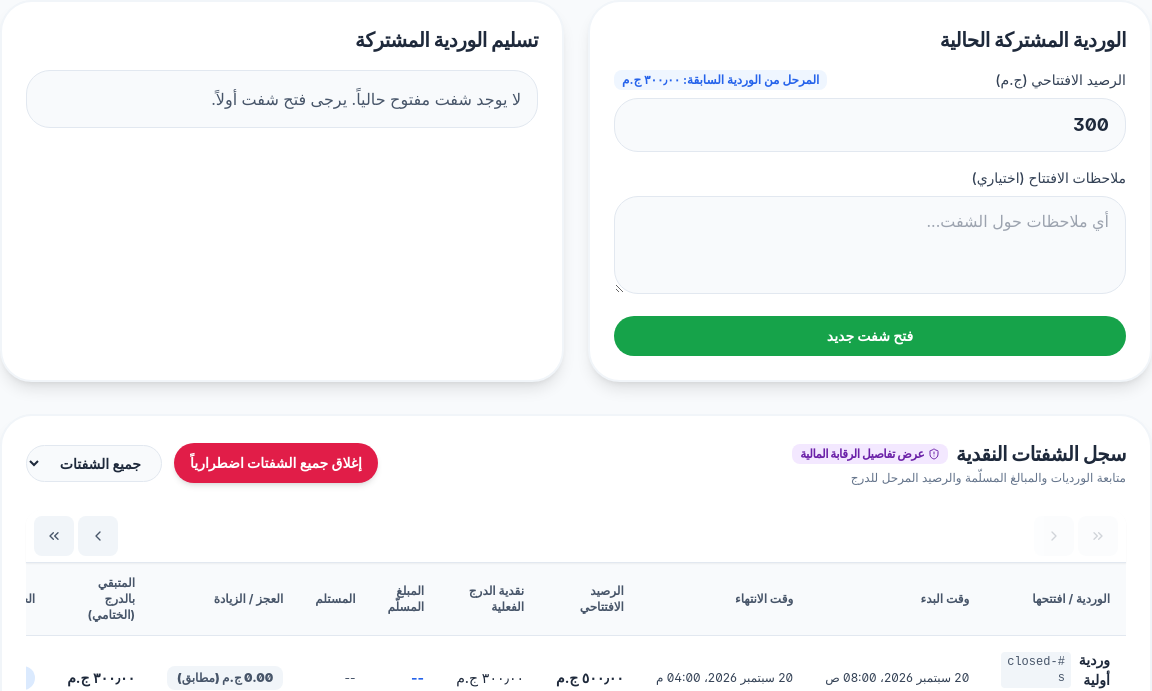
ShiftManagementClient async race regressions › does not misreport completed force-close writes as failed when the follow-up list refresh rejects
Click the button "إغلاق جميع الشفتات اضطرارياً".
click(276, 463)  # box [174,443,378,483]
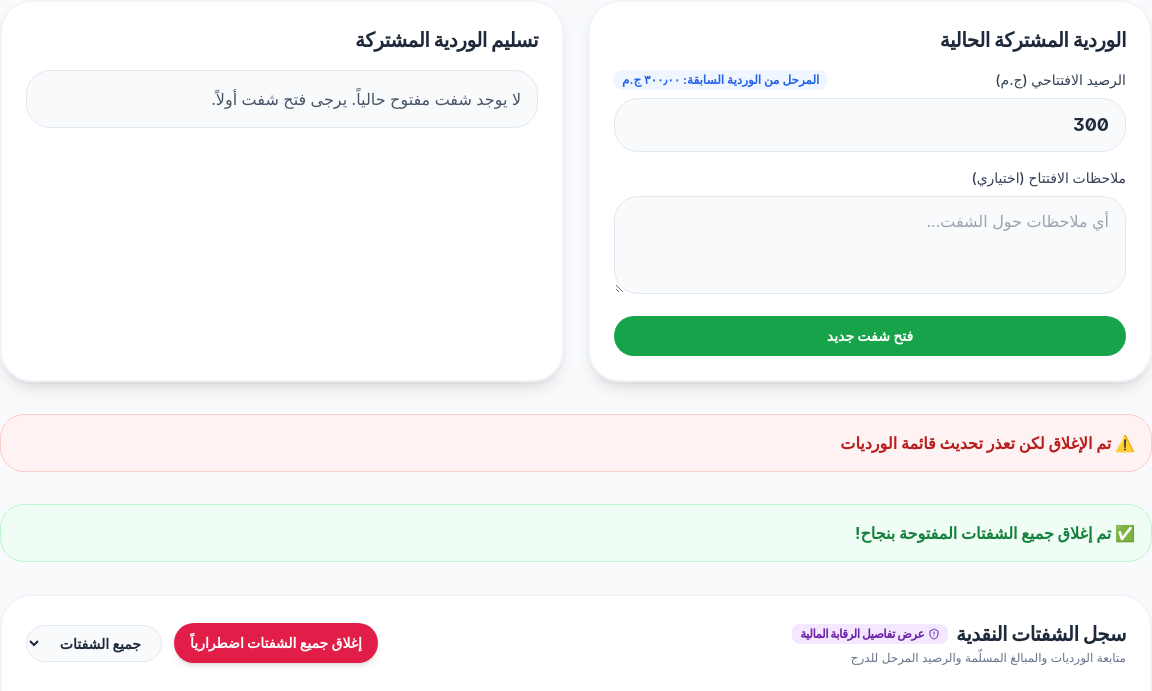
Expected: the text "✅ تم إغلاق جميع الشفتات المفتوحة بنجاح!" is shown, [855,523,1135,543]
Expected: the text "⚠️ تم الإغلاق لكن تعذر تحديث قائمة الورديات" is shown, [840,433,1135,453]
